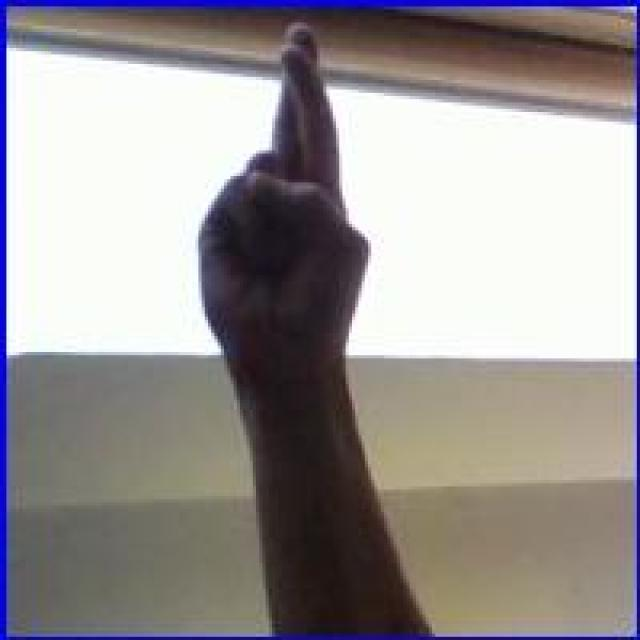R: (192, 16, 374, 374)
